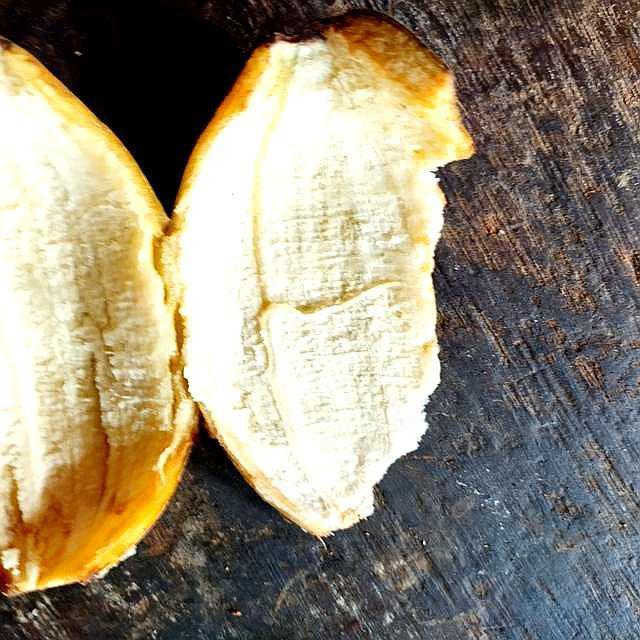Biodegradable: (175, 37, 453, 521), (1, 33, 167, 593)
